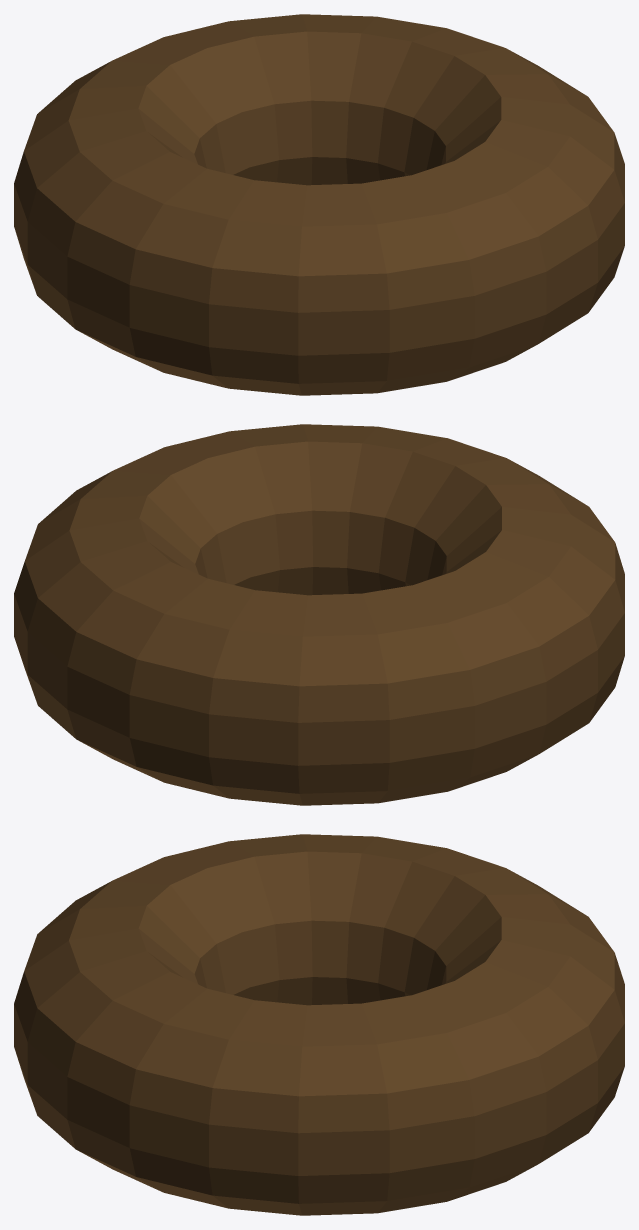
File: Donut3.obj
3 renders of one model, top to bottom at view 1: azimuth 30°, elevation 25°; view 2: azimuth 150°, elevation 25°; view 3: azimuth 270°, elevation 25°, orthographic.
Parts seen in each view (by area): view 1: Donut3_Torus.002; view 2: Donut3_Torus.002; view 3: Donut3_Torus.002.
Boxes of the visible parts, x1,y1,x2,y2 form: Donut3_Torus.002: (14, 14, 624, 395); Donut3_Torus.002: (14, 424, 624, 805); Donut3_Torus.002: (14, 834, 624, 1215).
Size of the model in its own units: 0.8591 by 0.2801 by 0.8566.
